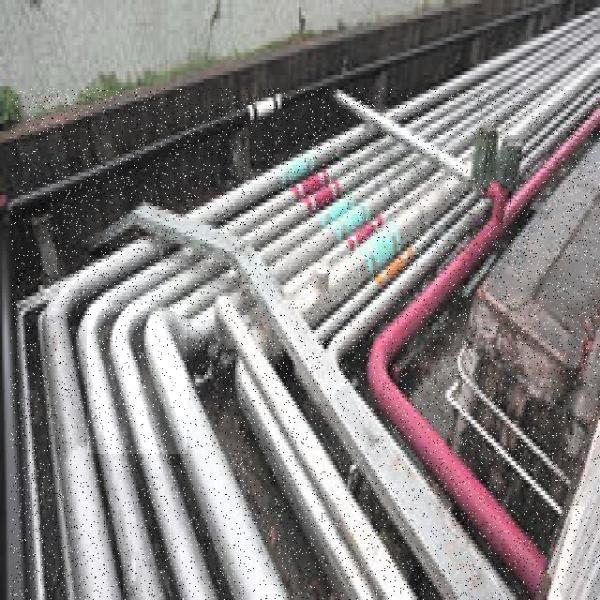no leak: (87, 304, 187, 454)
